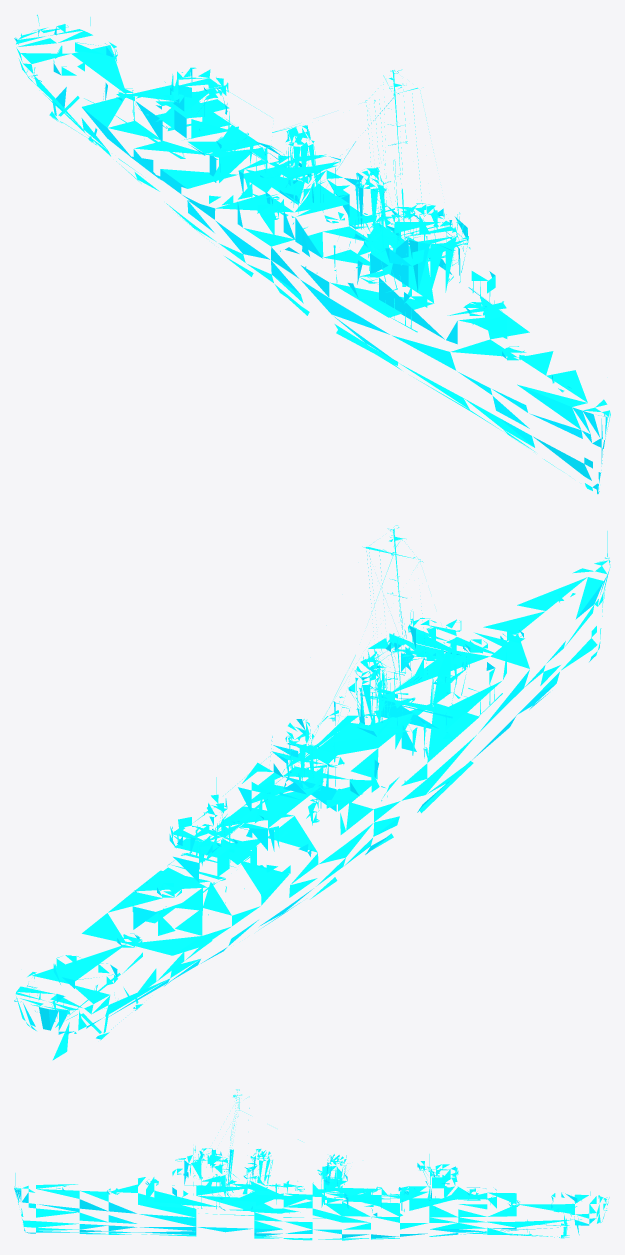
Rendered from Black.glb.
3 renders of one model, top to bottom at view 1: azimuth 30°, elevation 25°; view 2: azimuth 150°, elevation 25°; view 3: azimuth 270°, elevation 25°, orthographic. The views are drawn at different scales.
Bounding box in the file's own units: 0.8057 × 2.09 × 7.68.
